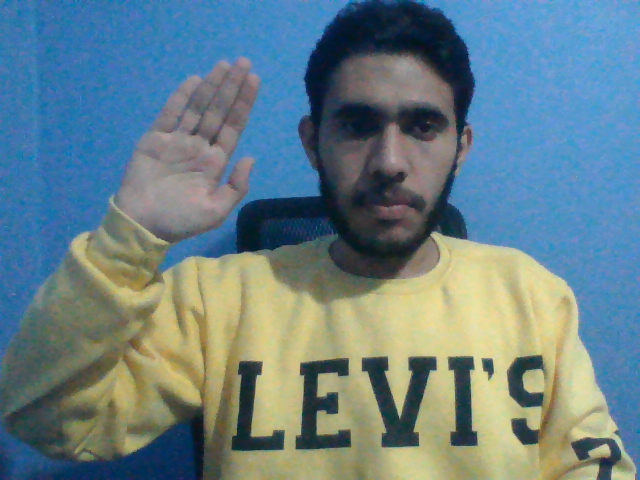hello: (104, 53, 262, 242)
